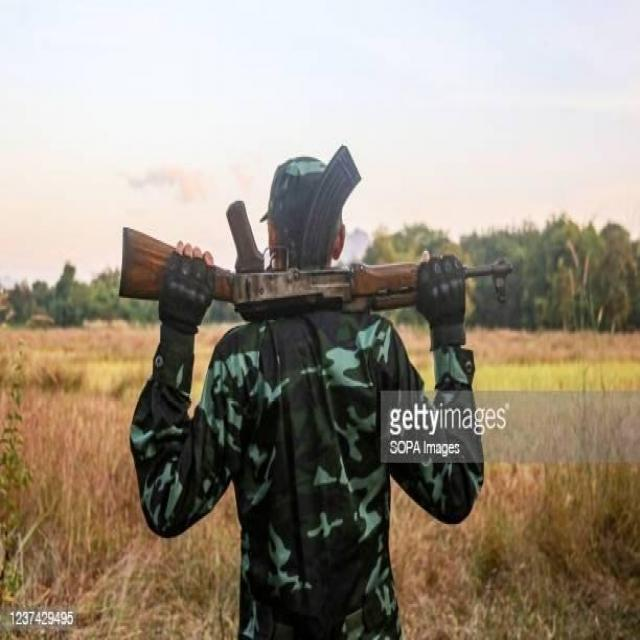gun: (117, 153, 513, 318)
